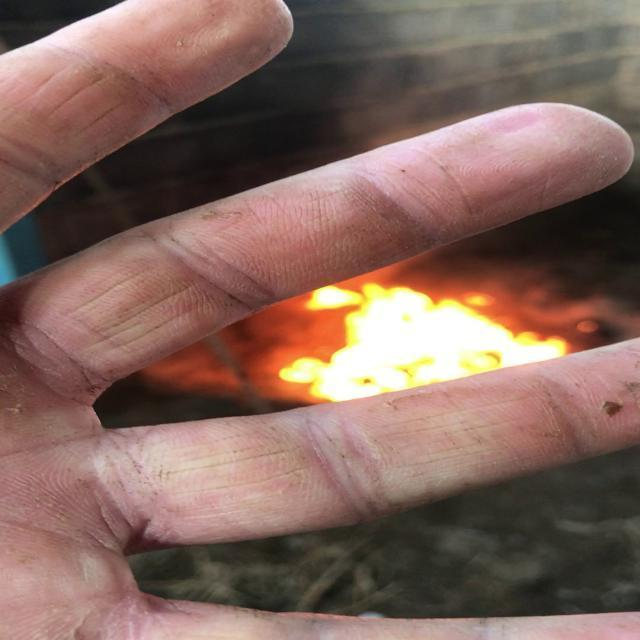Fire: (294, 322, 536, 369)
